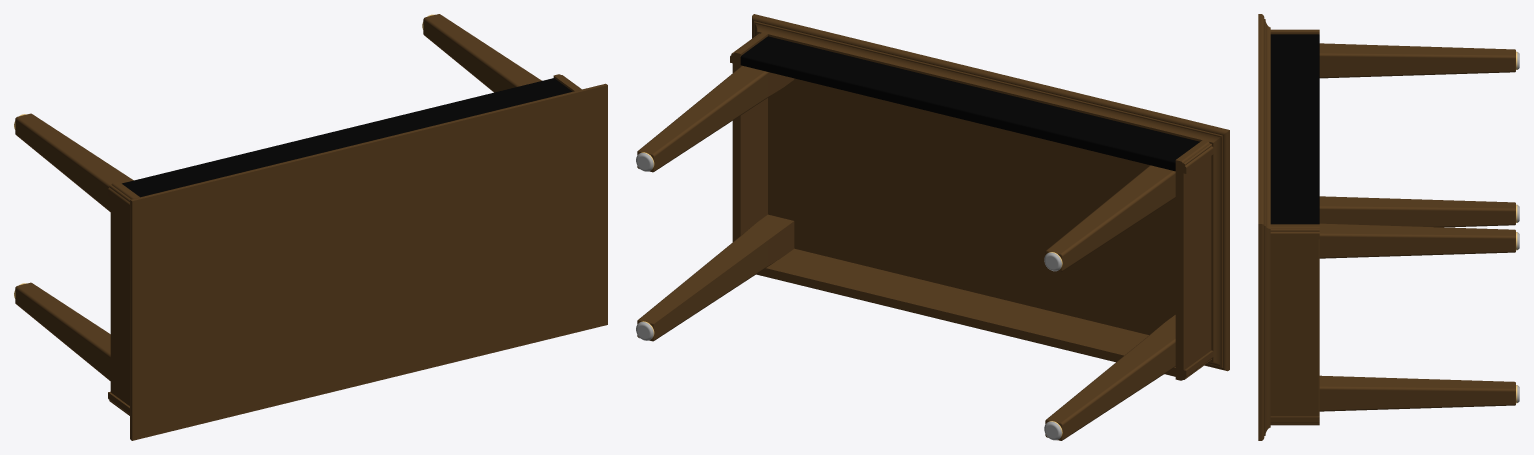
The model's file is piano bench v12.fbx.
3 views of the same model, side by side, from view 1: azimuth 30°, elevation 25°; view 2: azimuth 150°, elevation 25°; view 3: azimuth 270°, elevation 25° (orthographic). The views are drawn at different scales.
Parts seen in each view (by area): view 1: Body1 (×6); view 2: Body1 (×10); view 3: Body1 (×10).
Part boxes in pixels (x1,y1,x2,y2): Body1 (×6): [15, 14, 607, 440]; Body1 (×10): [637, 14, 1229, 440]; Body1 (×10): [1258, 14, 1515, 440].
Bounding box in the file's own units: 40.5 × 19.5 × 21.3.
